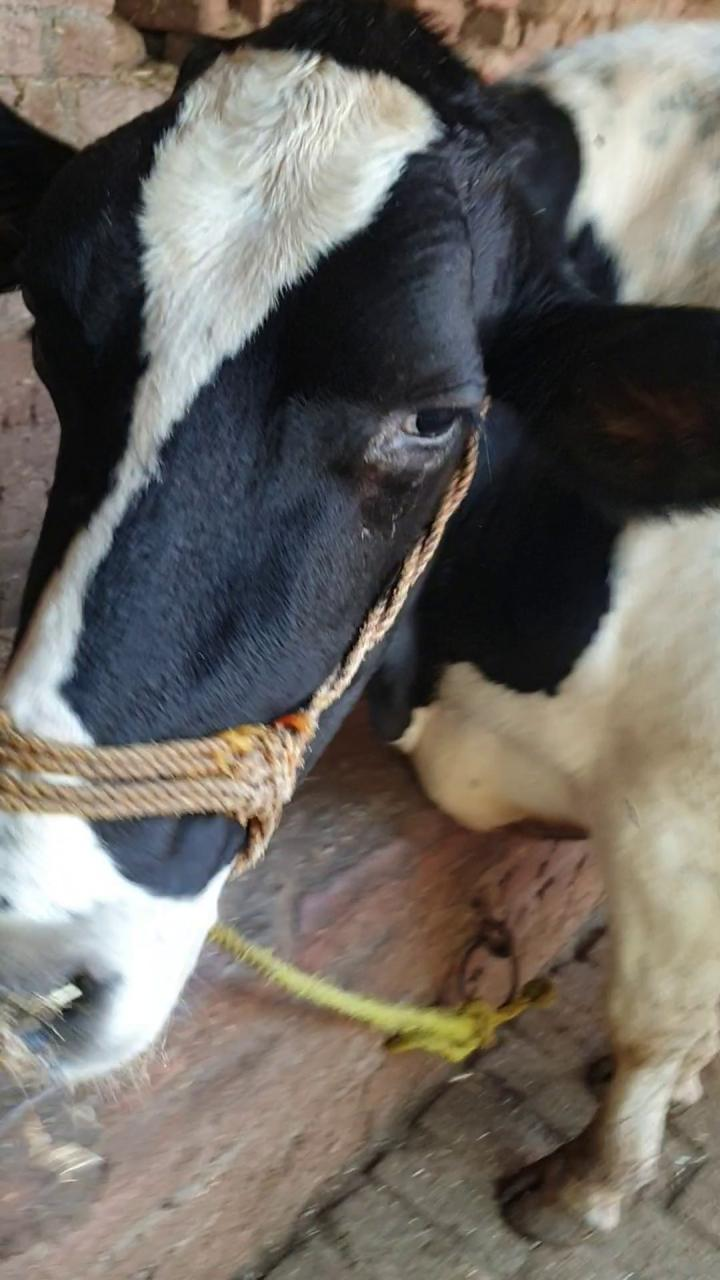cows: (0, 68, 483, 1074)
